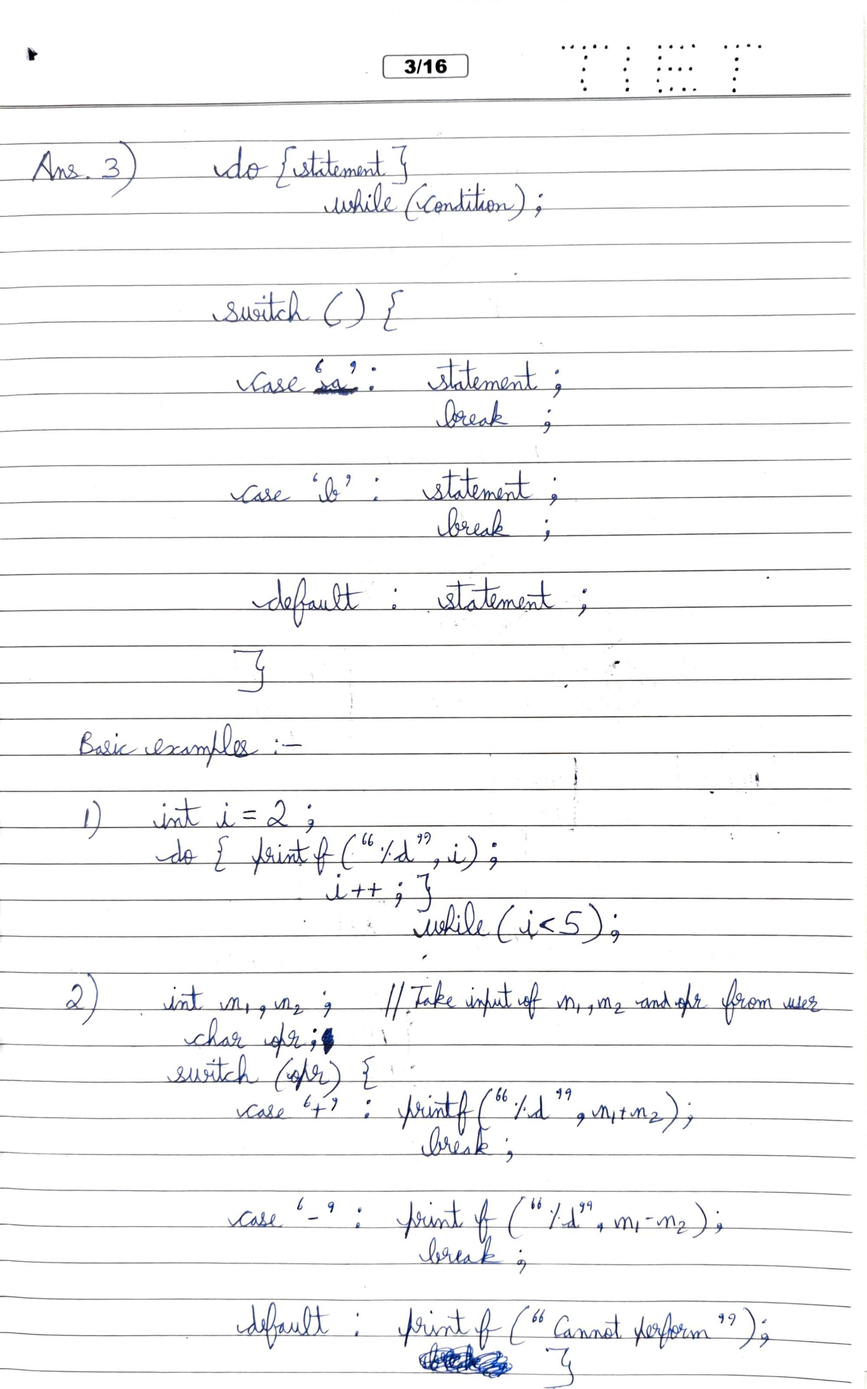cuttings: (418, 1341, 514, 1381), (320, 1023, 338, 1057)
